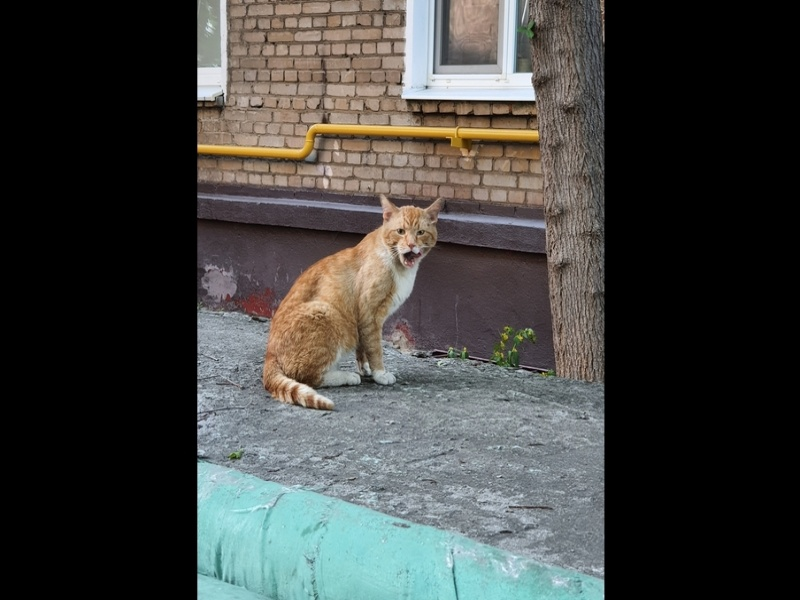cat: (254, 192, 451, 412)
